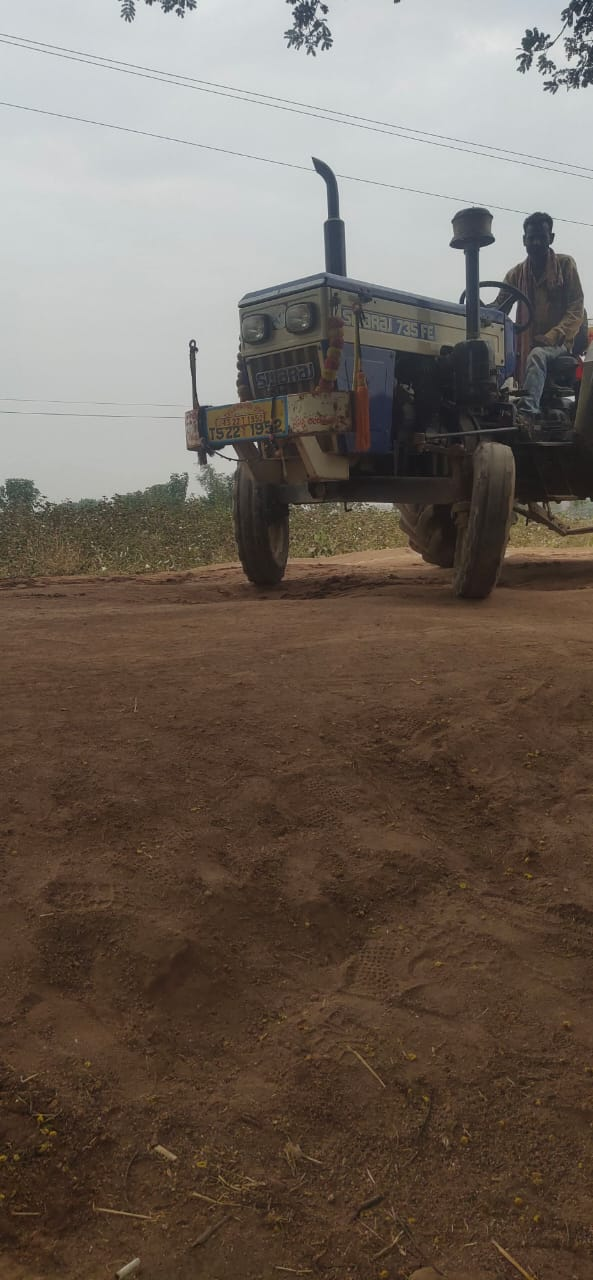num_plate: (190, 396, 294, 438)
